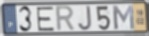3: (17, 5, 36, 34)
5: (95, 5, 112, 32)
E: (36, 6, 56, 32)
J: (77, 5, 93, 32)
M: (111, 5, 136, 31)
R: (55, 5, 77, 33)
